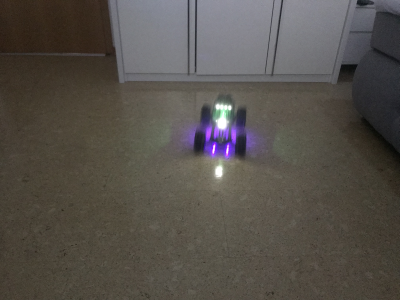remote control car: (192, 94, 247, 160)
